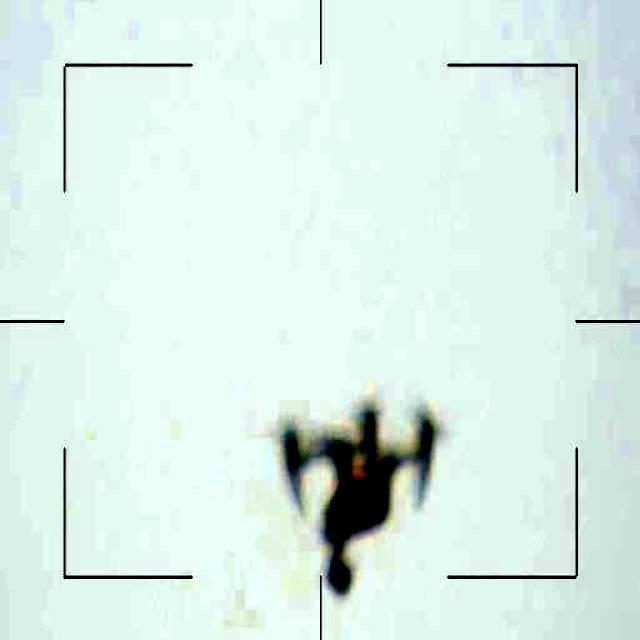bird: (256, 382, 458, 588)
